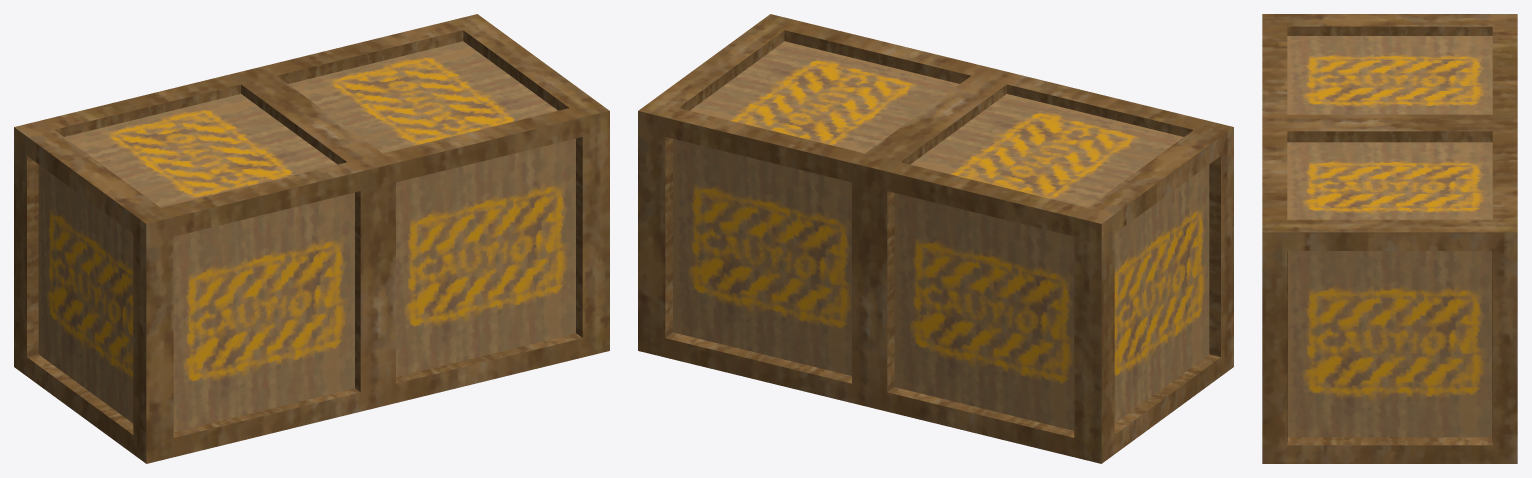
File: PIG_wood_box.glb
3 views of the same model, side by side, from view 1: azimuth 30°, elevation 25°; view 2: azimuth 150°, elevation 25°; view 3: azimuth 270°, elevation 25° (orthographic). The views are drawn at different scales.
Parts seen in each view (by area): view 1: Cube; view 2: Cube; view 3: Cube.
Part boxes in pixels (<box>): Cube: <box>14,14,609,463</box>; Cube: <box>638,14,1233,463</box>; Cube: <box>1262,14,1517,463</box>.
Bounding box in the file's own units: 11.98 × 5.93 × 5.93.
Materials: 1 (1 with a texture image).
